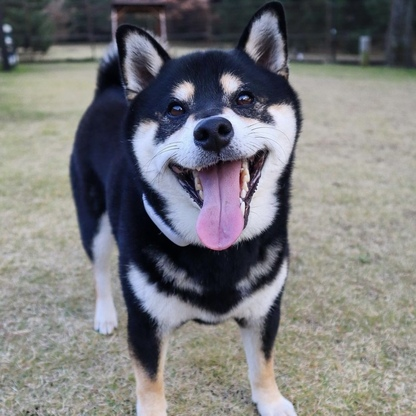shiba: (64, 1, 311, 416)
